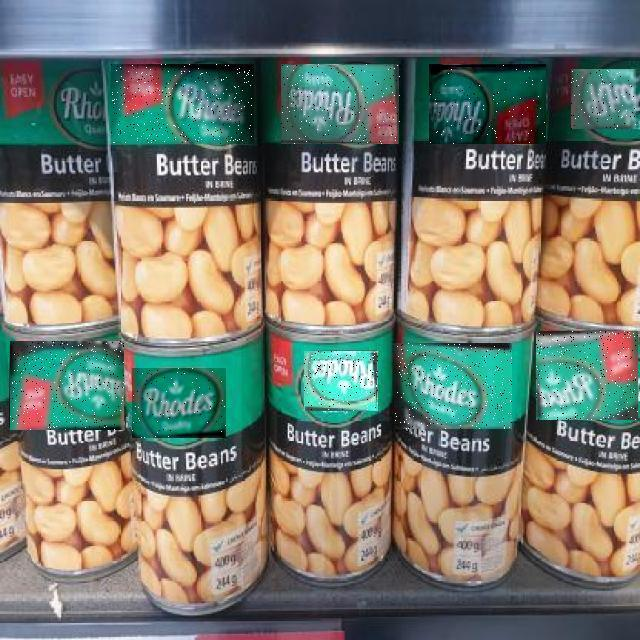Beans: (111, 65, 254, 145), (394, 343, 512, 429), (10, 341, 124, 430), (282, 65, 402, 145), (429, 65, 546, 145), (537, 331, 639, 420), (132, 368, 226, 438), (305, 351, 379, 411), (572, 69, 638, 129)
